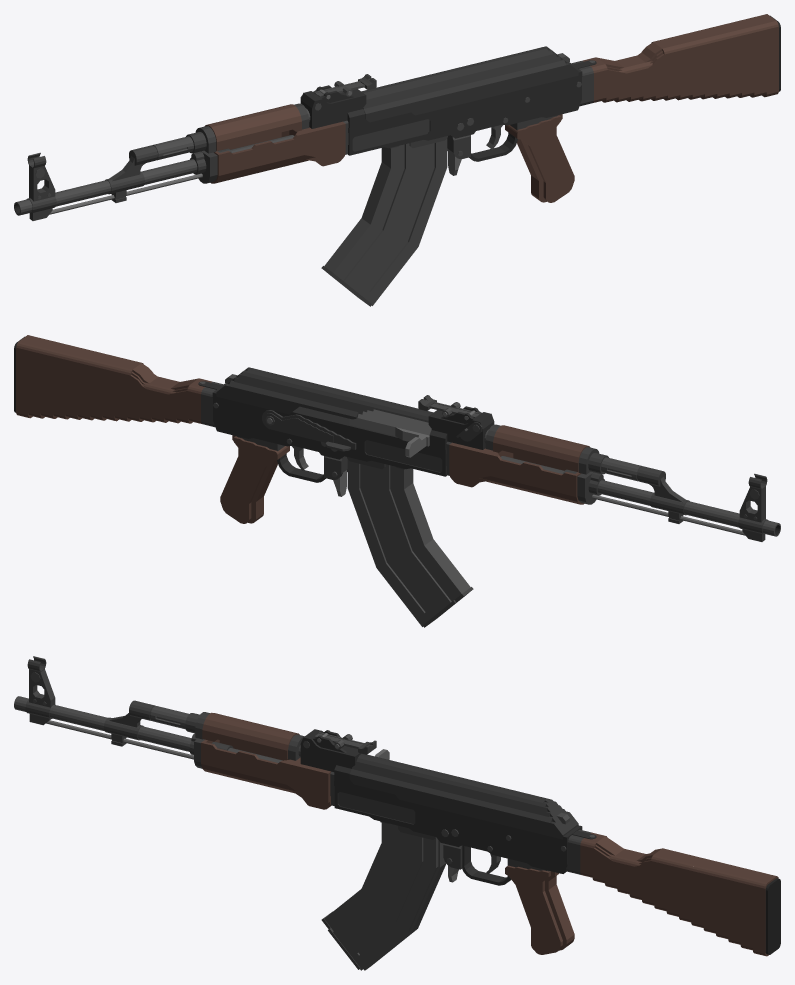
3 views of the same model, one above another, from view 1: azimuth 30°, elevation 25°; view 2: azimuth 150°, elevation 25°; view 3: azimuth 330°, elevation 25° (orthographic).
Visible parts, largest first — view 1: Object_1147; view 2: Object_1147; view 3: Object_1147.
Part boxes in pixels (x1,y1,x2,y2): Object_1147: (14, 14, 780, 306); Object_1147: (14, 335, 780, 627); Object_1147: (14, 656, 780, 970).
Size of the model in its own units: 1.92 by 0.5534 by 0.1565.
7 materials, 7 textured.
